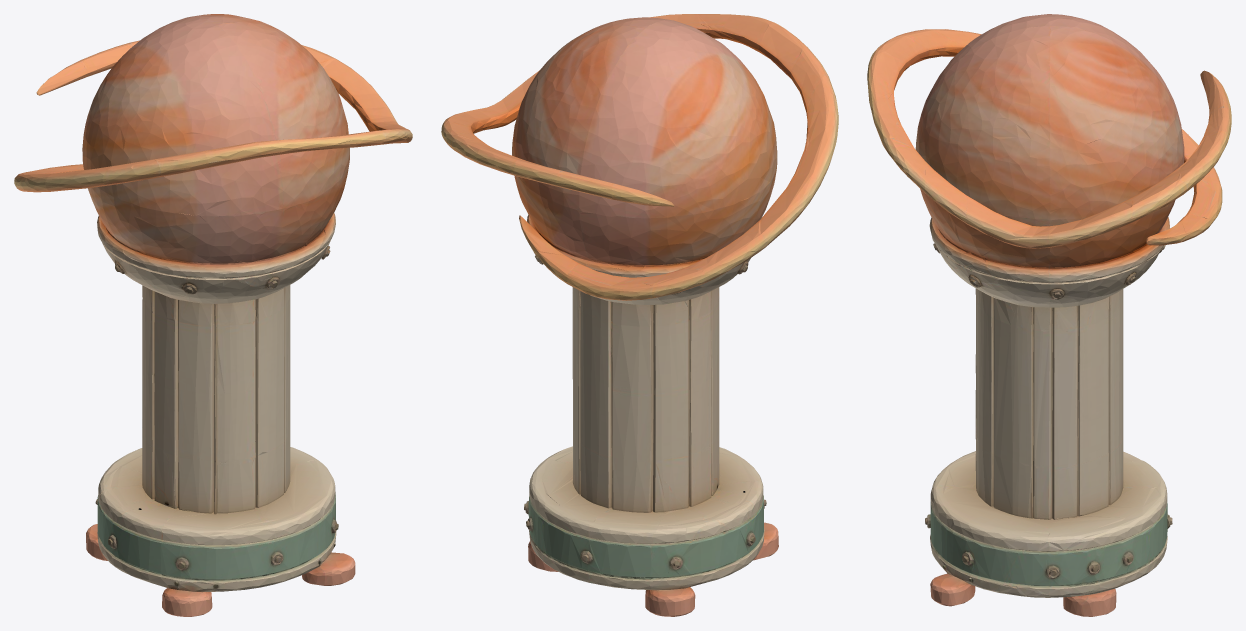
Rendered from 01-saturn-landmark.glb.
The picture shows the model from 3 angles, left to right: view 1: azimuth 30°, elevation 25°; view 2: azimuth 150°, elevation 25°; view 3: azimuth 270°, elevation 25°; orthographic projection.
Bounding box in the file's own units: 0.6785 × 1 × 0.6055.
1 material, 1 textured.
